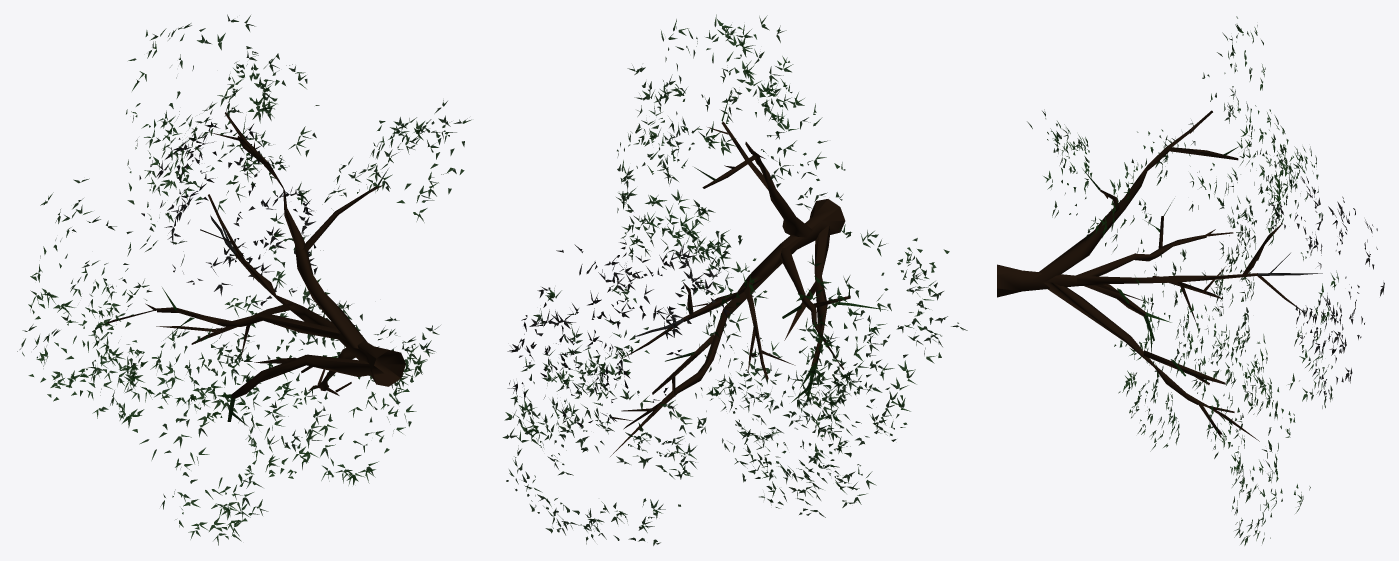
File: Tree.fbx
3 views of the same model, side by side, from view 1: azimuth 30°, elevation 25°; view 2: azimuth 150°, elevation 25°; view 3: azimuth 270°, elevation 25° (orthographic). The views are drawn at different scales.
Parts seen in each view (by area): view 1: sub01; view 2: sub01; view 3: sub01.
Part boxes in pixels (bbox=[...]): sub01: bbox=[17, 14, 471, 545]; sub01: bbox=[502, 14, 967, 545]; sub01: bbox=[997, 16, 1384, 545].
Bounding box in the file's own units: 2.63 × 3.07 × 2.43.
